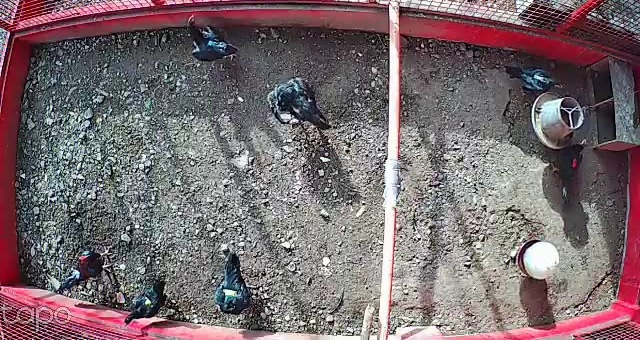Chicken: (260, 77, 339, 134), (209, 252, 254, 316), (122, 272, 171, 329), (548, 137, 587, 205), (499, 59, 565, 99), (186, 15, 241, 62)
Rooster: (56, 243, 113, 292)
Saddle_Color_Blue: (208, 40, 213, 46)
Saddle_Color_Red: (572, 158, 578, 169)
Saddle_Color_Yellow: (141, 294, 154, 307)
Saddle_Color_YellowGreen: (223, 289, 238, 301)
